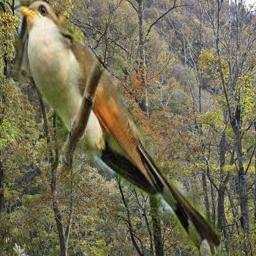Cuckoo: (14, 0, 221, 256)
